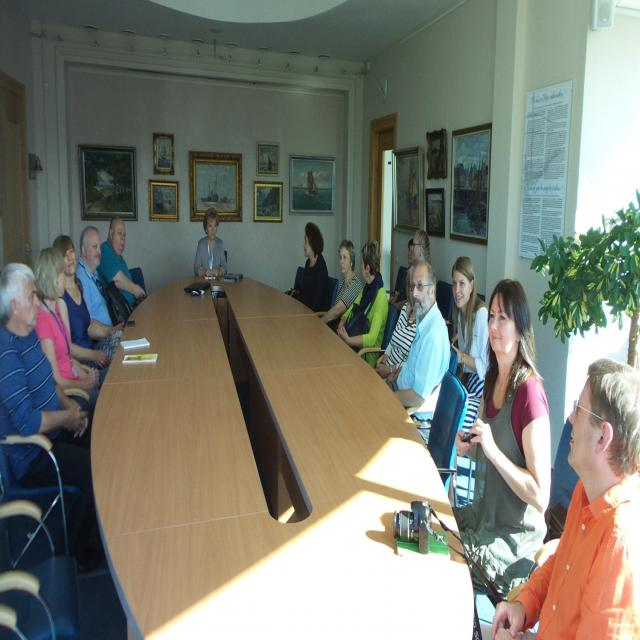body: (489, 358, 640, 638), (452, 276, 550, 597), (0, 260, 98, 576), (33, 245, 111, 409), (384, 258, 452, 445), (448, 253, 490, 508), (51, 233, 126, 372), (336, 237, 390, 370), (75, 225, 126, 342), (374, 264, 417, 392), (95, 215, 147, 312), (320, 239, 363, 326), (298, 221, 329, 318), (193, 205, 228, 278), (386, 236, 416, 316), (411, 230, 431, 263)
